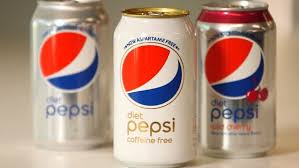can: (111, 4, 199, 168), (28, 1, 112, 154), (199, 4, 278, 164)
